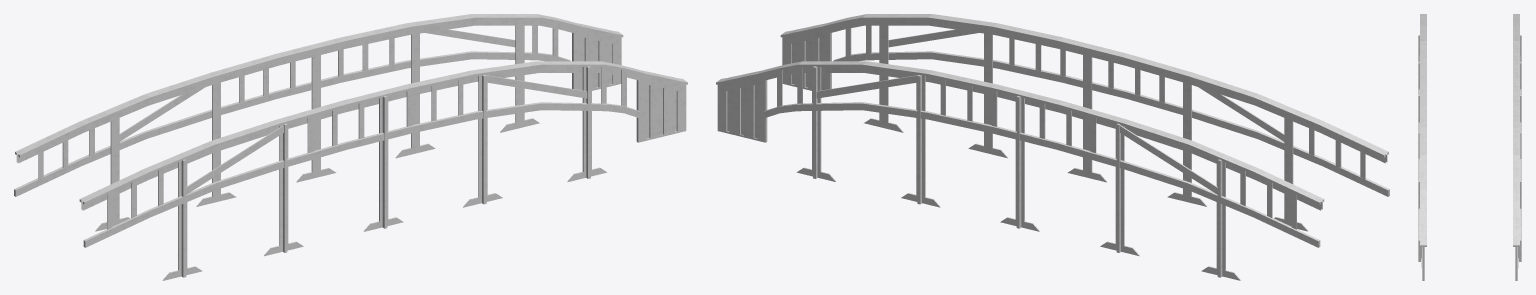
Rendered from BridgeFrame_A_002.fbx.
3 views of the same model, side by side, from view 1: azimuth 30°, elevation 25°; view 2: azimuth 150°, elevation 25°; view 3: azimuth 270°, elevation 25° (orthographic). The views are drawn at different scales.
Parts seen in each view (by area): view 1: BridgeFrame_A_002; view 2: BridgeFrame_A_002; view 3: BridgeFrame_A_002.
Boxes of the visible parts, x1,y1,x2,y2 form: BridgeFrame_A_002: [14, 14, 687, 280]; BridgeFrame_A_002: [716, 14, 1389, 280]; BridgeFrame_A_002: [1418, 14, 1521, 280].
Bounding box in the file's own units: 1473 × 310 × 304.
1 material, 1 textured.
